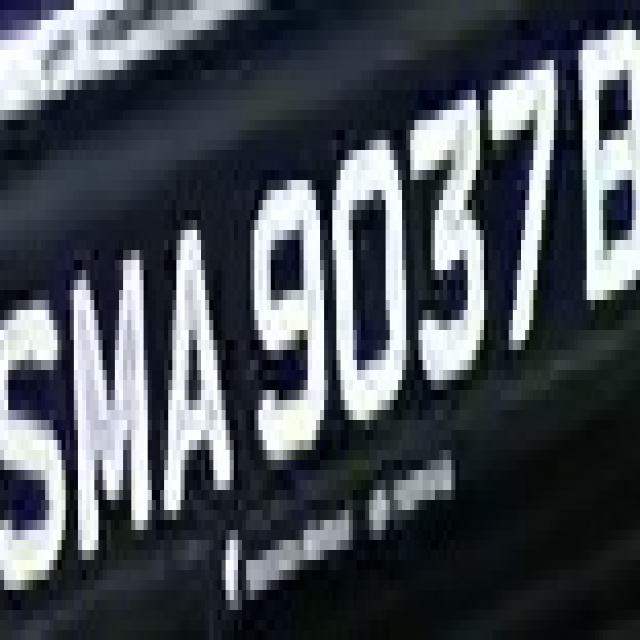0: (324, 110, 419, 430)
3: (398, 80, 488, 420)
7: (472, 60, 562, 340)
9: (250, 140, 336, 490)
A: (148, 200, 246, 520)
B: (570, 20, 640, 300)
M: (66, 220, 152, 570)
S: (8, 230, 74, 620)
